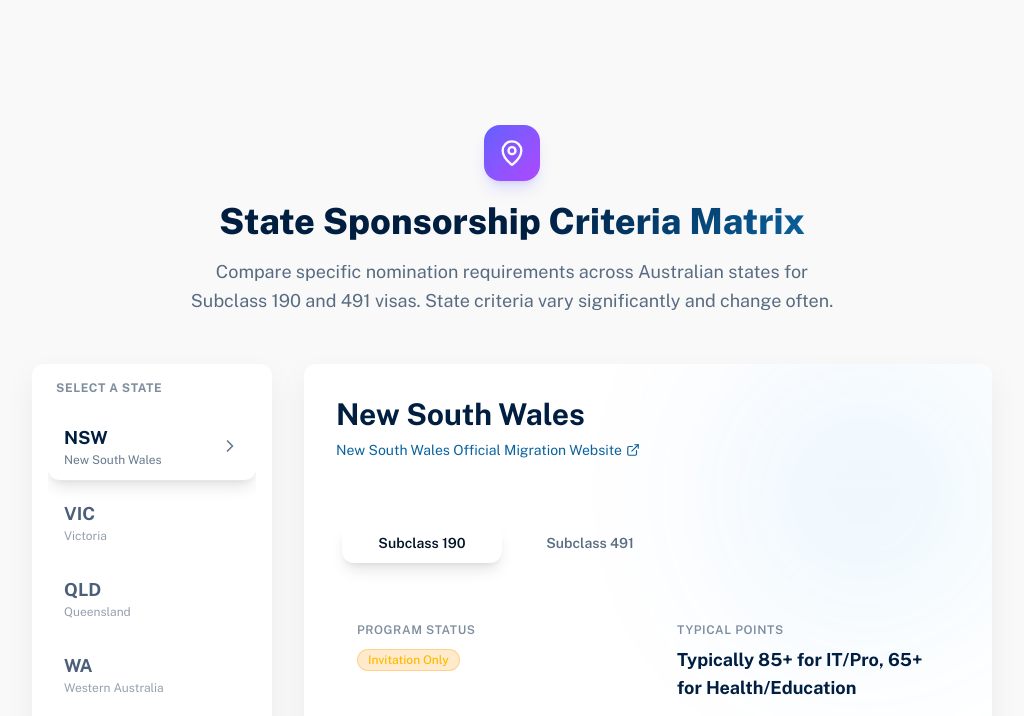
Test: StateSponsorshipPage › switches states when a state button is clicked
Click the text "VIC": (80, 513) [64,502,95,524]
(page scrolled)
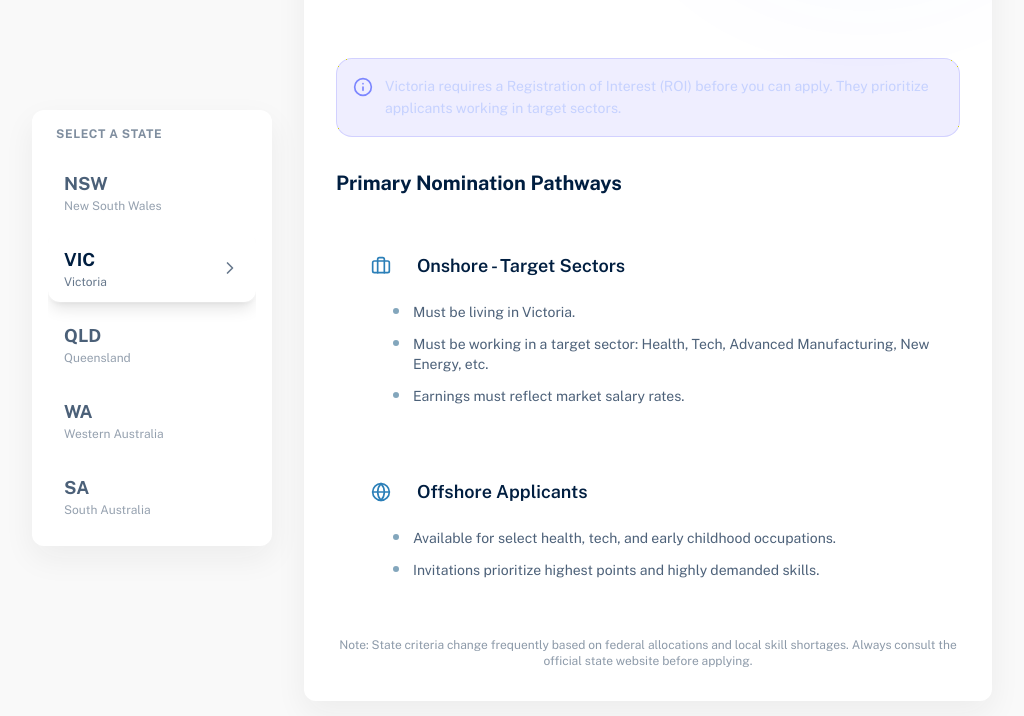
Expected: the heading "Offshore Applicants" is shown, [417,478,588,506]
Expected: the heading "Onshore - Target Sectors" is shown, [417,252,625,280]
